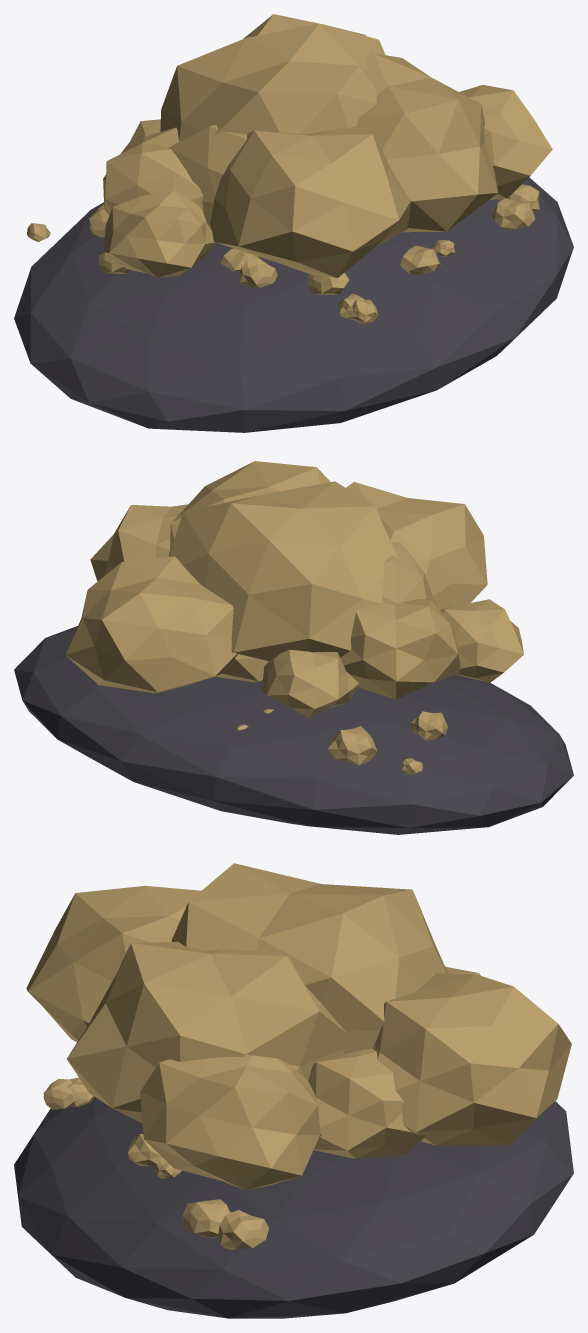
File: pentlandite.glb
3 views of the same model, one above another, from view 1: azimuth 30°, elevation 25°; view 2: azimuth 150°, elevation 25°; view 3: azimuth 270°, elevation 25° (orthographic). The views are drawn at different scales.
Visible parts, largest first — view 1: Pentlandite; view 2: Pentlandite; view 3: Pentlandite.
Part boxes in pixels (bbox=[...]): Pentlandite: bbox=[14, 14, 573, 432]; Pentlandite: bbox=[14, 461, 573, 834]; Pentlandite: bbox=[14, 863, 573, 1318].
Size of the model in its own units: 3.96 by 2.18 by 3.03.
